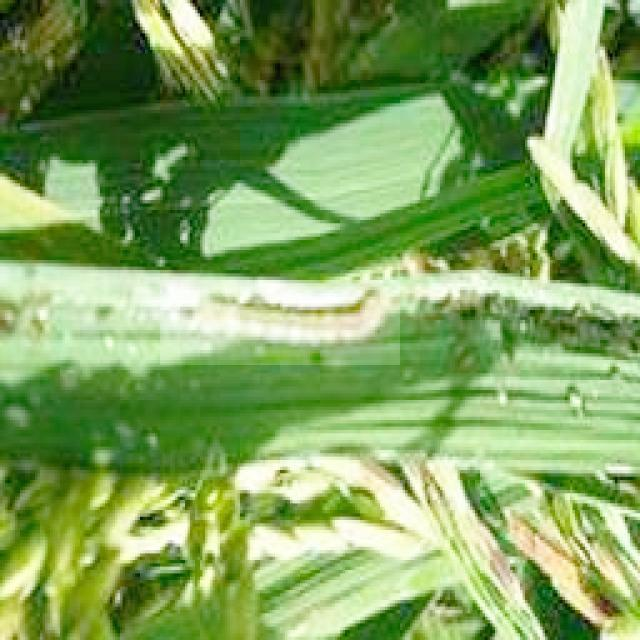leaf-folder: (160, 280, 400, 365)
